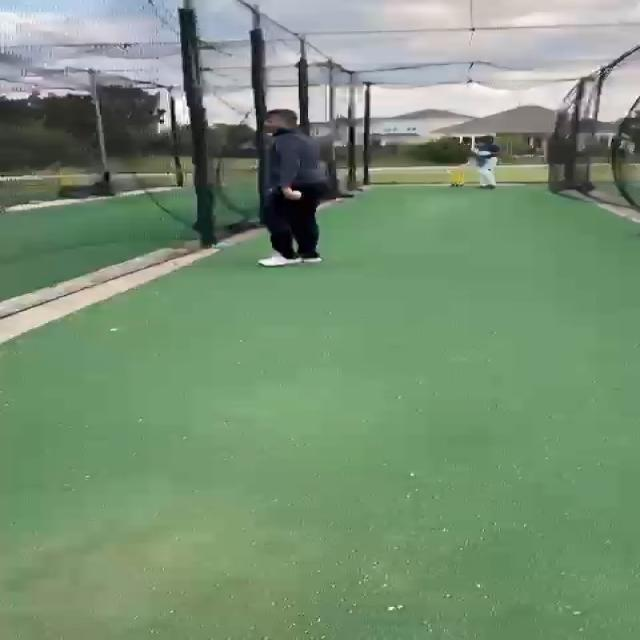batsman: (468, 133, 503, 190)
